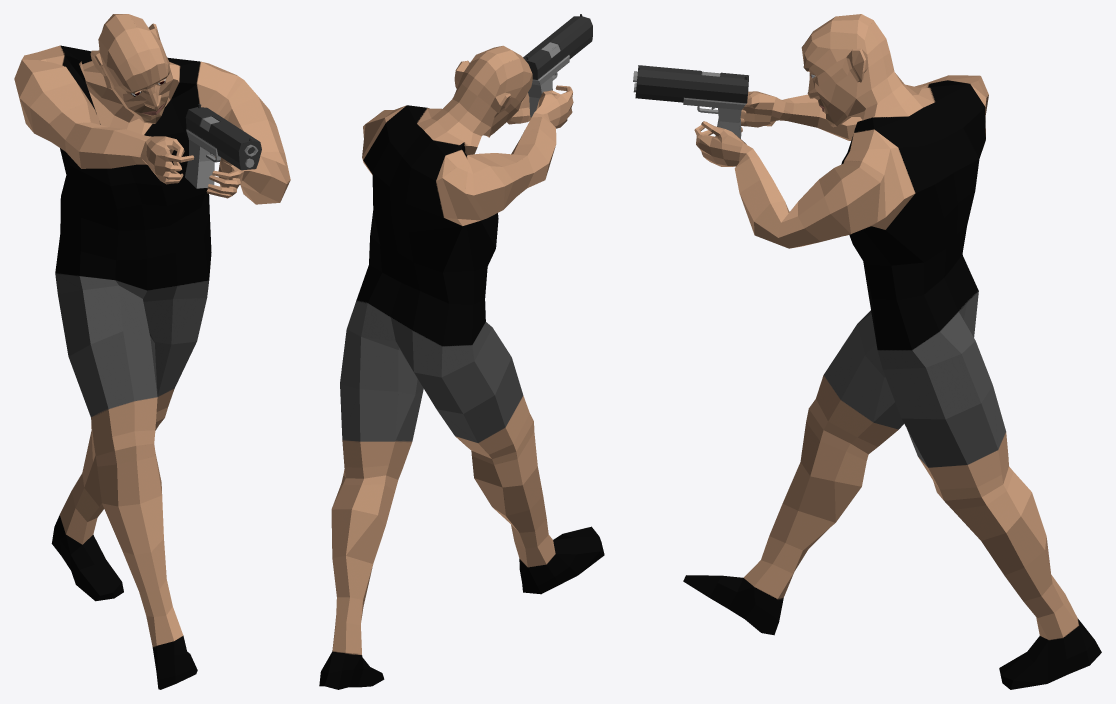
Rendered from PlayerWalk(14).obj.
3 renders of one model, left to right at view 1: azimuth 30°, elevation 25°; view 2: azimuth 150°, elevation 25°; view 3: azimuth 270°, elevation 25°, orthographic. The views are drawn at different scales.
Parts seen in each view (by area): view 1: Plane002, Box003; view 2: Plane002, Box003; view 3: Plane002, Box003.
Boxes of the visible parts, x1,y1,x2,y2 form: Plane002: (14,14,290,689); Box003: (185,104,261,188); Plane002: (319,45,604,689); Box003: (523,14,592,117); Plane002: (683,14,1101,689); Box003: (633,65,748,138).
Size of the model in its own units: 548 by 1715 by 1147.
